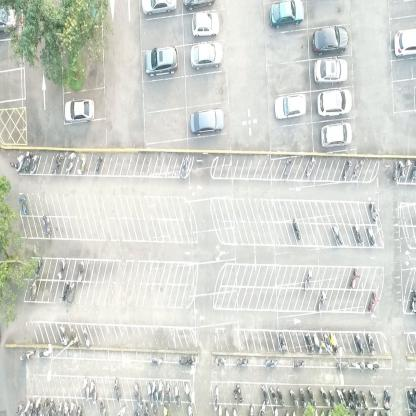car: (144, 43, 179, 78), (311, 26, 349, 56), (268, 0, 305, 30), (189, 107, 226, 137), (317, 89, 353, 118), (190, 41, 224, 71), (320, 121, 352, 150), (274, 93, 306, 121), (314, 59, 348, 85), (63, 99, 96, 124), (190, 10, 220, 37), (394, 24, 416, 57), (140, 0, 177, 16), (0, 2, 18, 33), (182, 0, 216, 11)
